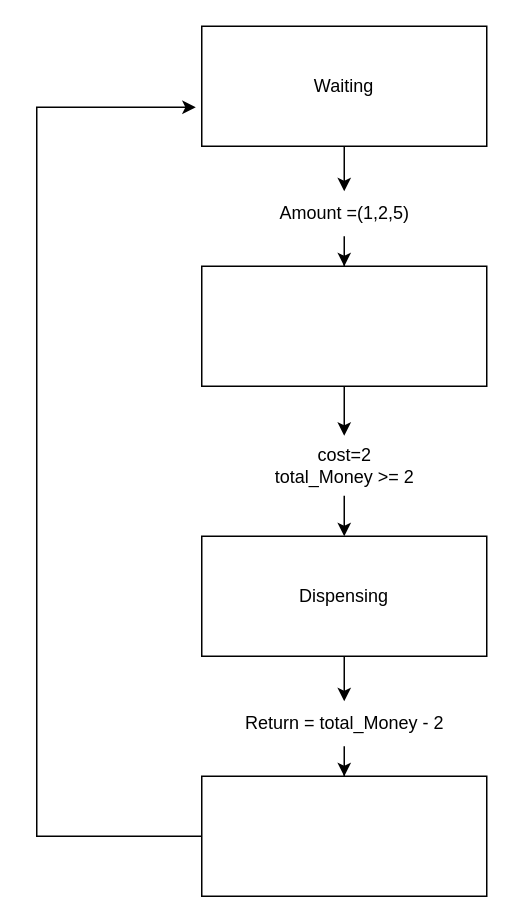
Image size: 513x923. Some labels were removed from this diagram. Each missing label, with the centre of its shape:
"Accepting" belongs at pixel 343 325.
"Returning" belongs at pixel 343 835.
